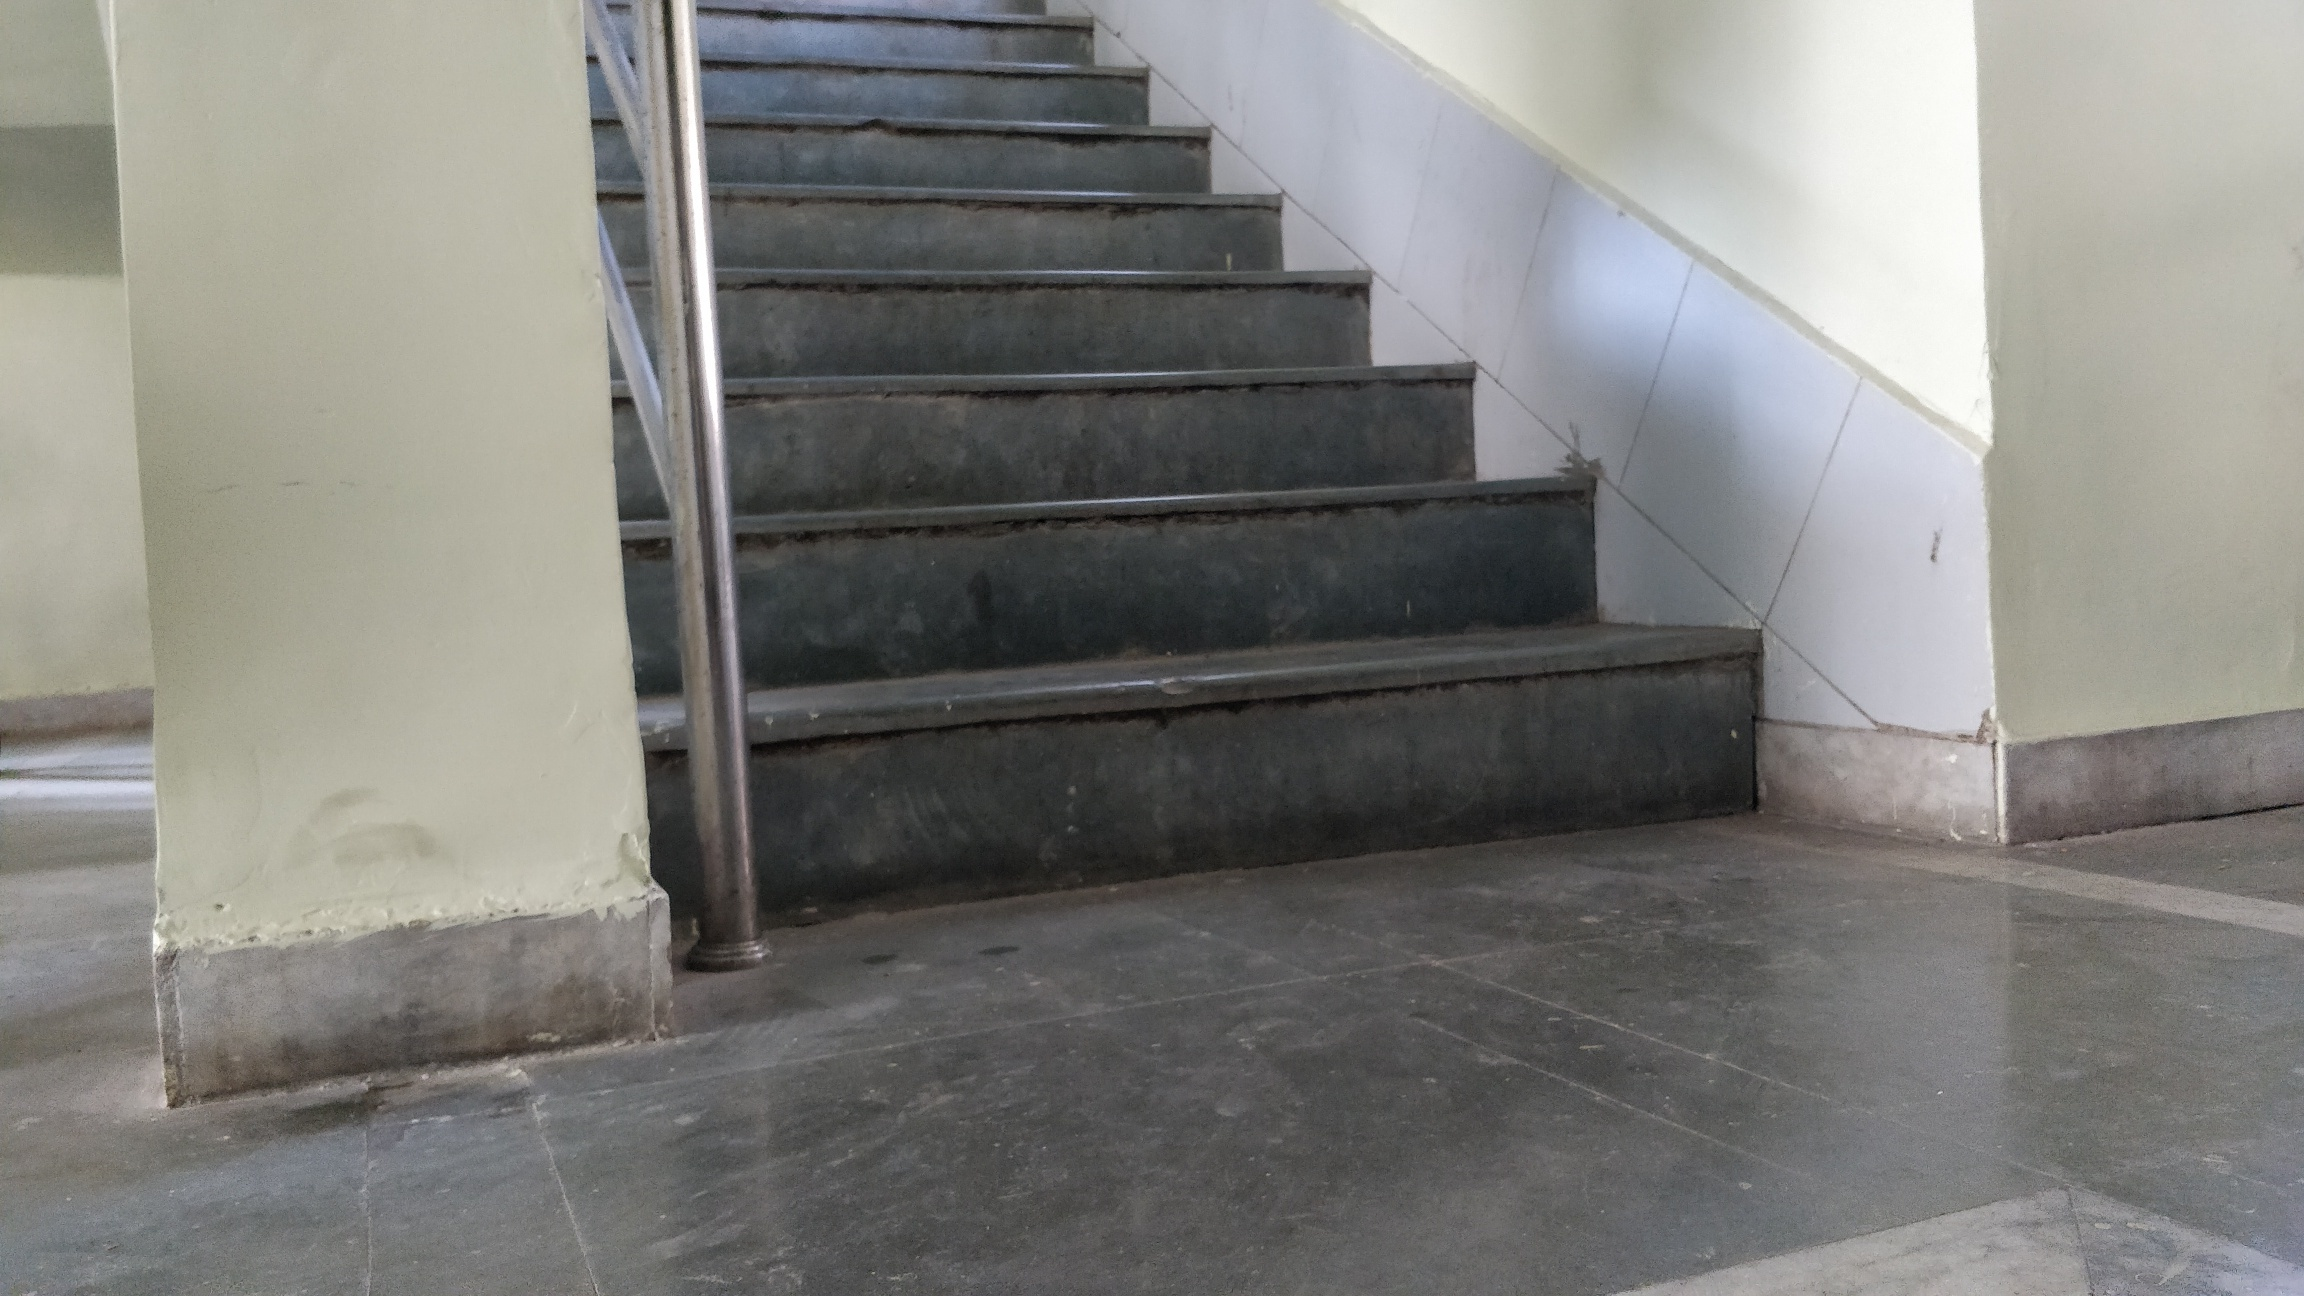stairs_up: (608, 25, 1782, 897)
